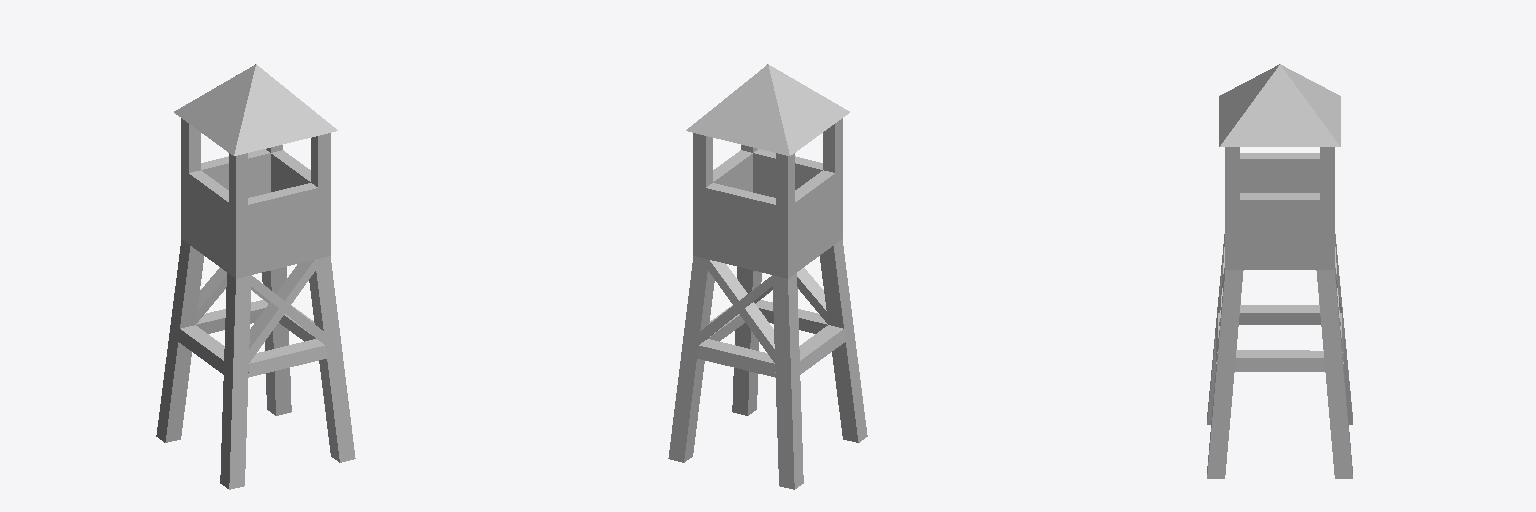
File: Башня лучников 1 2.0.obj
3 renders of one model, left to right at view 1: azimuth 30°, elevation 25°; view 2: azimuth 150°, elevation 25°; view 3: azimuth 270°, elevation 25°, orthographic.
Visible parts, largest first — view 1: Cube.005_Cube.009, Cube.004_Cube.008, Cube.003_Cube.006, Cube.001, Cube.002_Cube.005, Cube.008_Cube.012, Cube.006_Cube.004, Cube.007_Cube.013, Cube; view 2: Cube.005_Cube.009, Cube.004_Cube.008, Cube.003_Cube.006, Cube.001, Cube.002_Cube.005, Cube.008_Cube.012, Cube.006_Cube.004, Cube.007_Cube.013, Cube; view 3: Cube.005_Cube.009, Cube.002_Cube.005, Cube.004_Cube.008, Cube.007_Cube.013, Cube.001, Cube.
Boxes of the visible parts, x1,y1,x2,y2 form: Cube.005_Cube.009: [156, 239, 355, 489]; Cube.004_Cube.008: [174, 64, 337, 155]; Cube.003_Cube.006: [201, 149, 317, 265]; Cube.001: [181, 118, 330, 268]; Cube.002_Cube.005: [189, 150, 310, 262]; Cube.008_Cube.012: [196, 260, 324, 362]; Cube.006_Cube.004: [196, 300, 326, 377]; Cube.007_Cube.013: [178, 305, 315, 374]; Cube: [181, 229, 330, 278]; Cube.005_Cube.009: [668, 239, 867, 489]; Cube.004_Cube.008: [686, 64, 849, 155]; Cube.003_Cube.006: [706, 149, 822, 265]; Cube.001: [693, 118, 842, 268]; Cube.002_Cube.005: [713, 150, 834, 262]; Cube.008_Cube.012: [699, 260, 827, 362]; Cube.006_Cube.004: [697, 300, 827, 377]; Cube.007_Cube.013: [708, 305, 845, 374]; Cube: [693, 229, 842, 278]; Cube.005_Cube.009: [1207, 234, 1352, 478]; Cube.002_Cube.005: [1240, 153, 1319, 259]; Cube.004_Cube.008: [1219, 64, 1340, 146]; Cube.007_Cube.013: [1234, 305, 1325, 371]; Cube.001: [1225, 147, 1334, 259]; Cube: [1225, 260, 1334, 269].
Bounding box in the file's own units: 2.67 × 7.76 × 2.67.